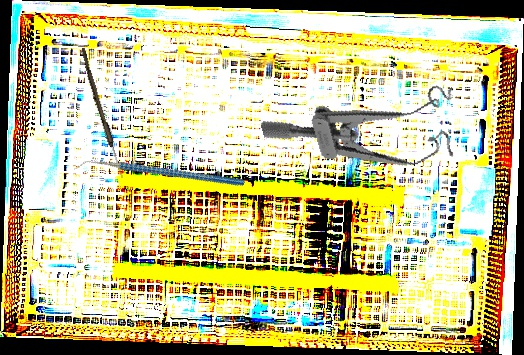Chopper: (73, 108, 246, 242)
Speculum: (259, 68, 471, 206)
Surgical Spoon: (77, 47, 127, 180)
